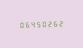five: (35, 20, 40, 28)
four: (29, 20, 34, 28)
six: (23, 20, 28, 28), (53, 19, 58, 27)
two: (47, 19, 52, 27), (59, 19, 64, 27)
zero: (17, 20, 22, 28), (41, 20, 46, 27)
